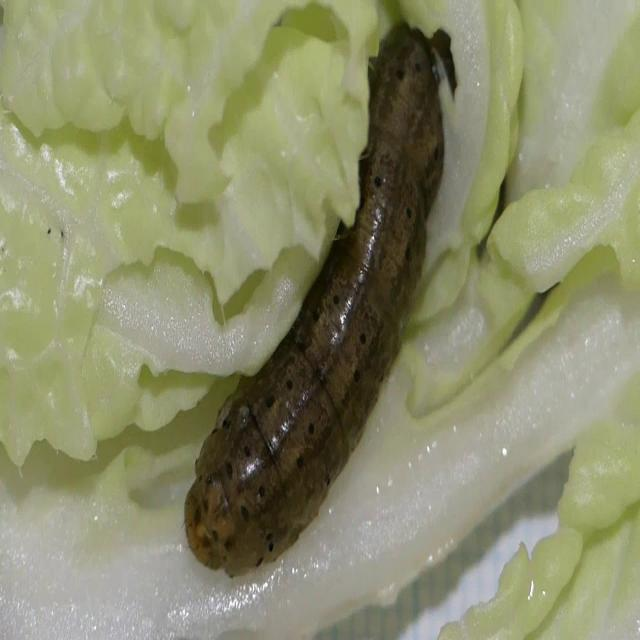cutworm: (183, 20, 453, 591)
